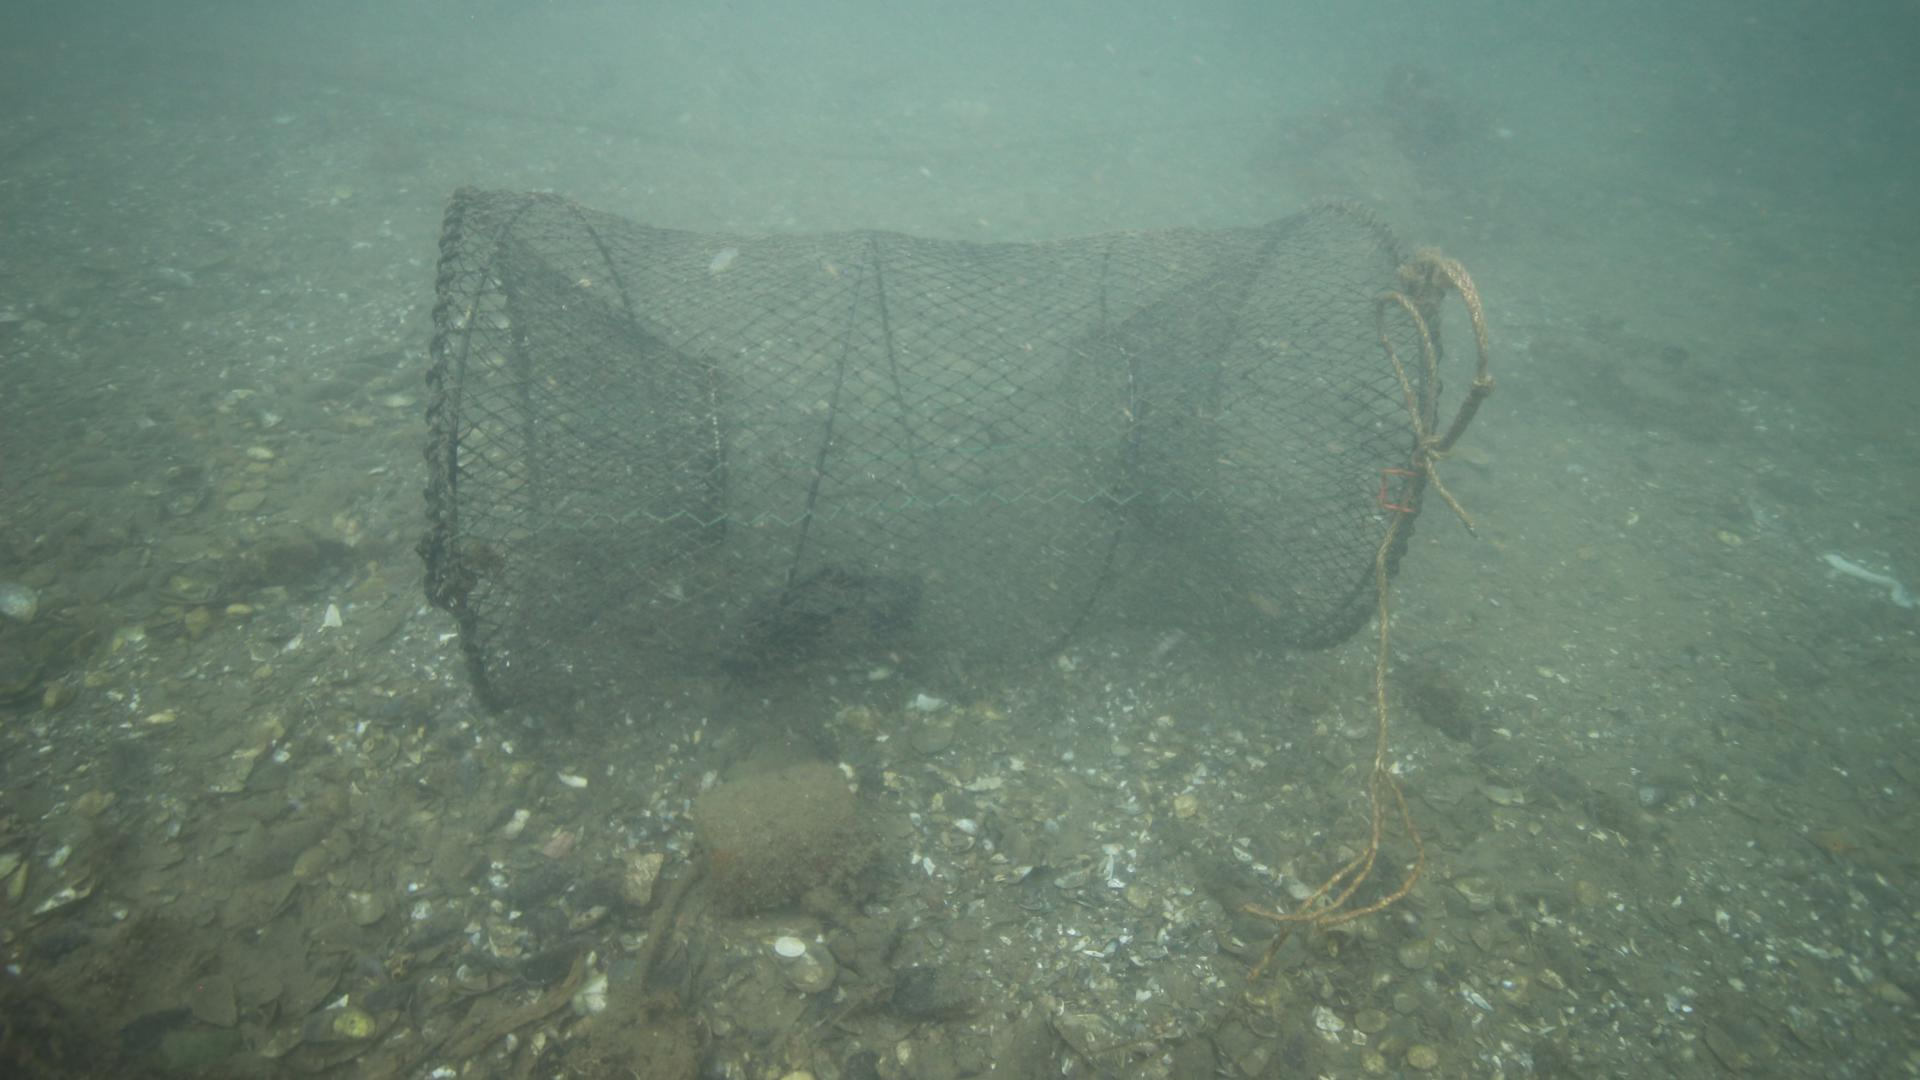bundle of ropes: (1367, 247, 1498, 454)
spring fish trap: (425, 181, 1444, 736)
